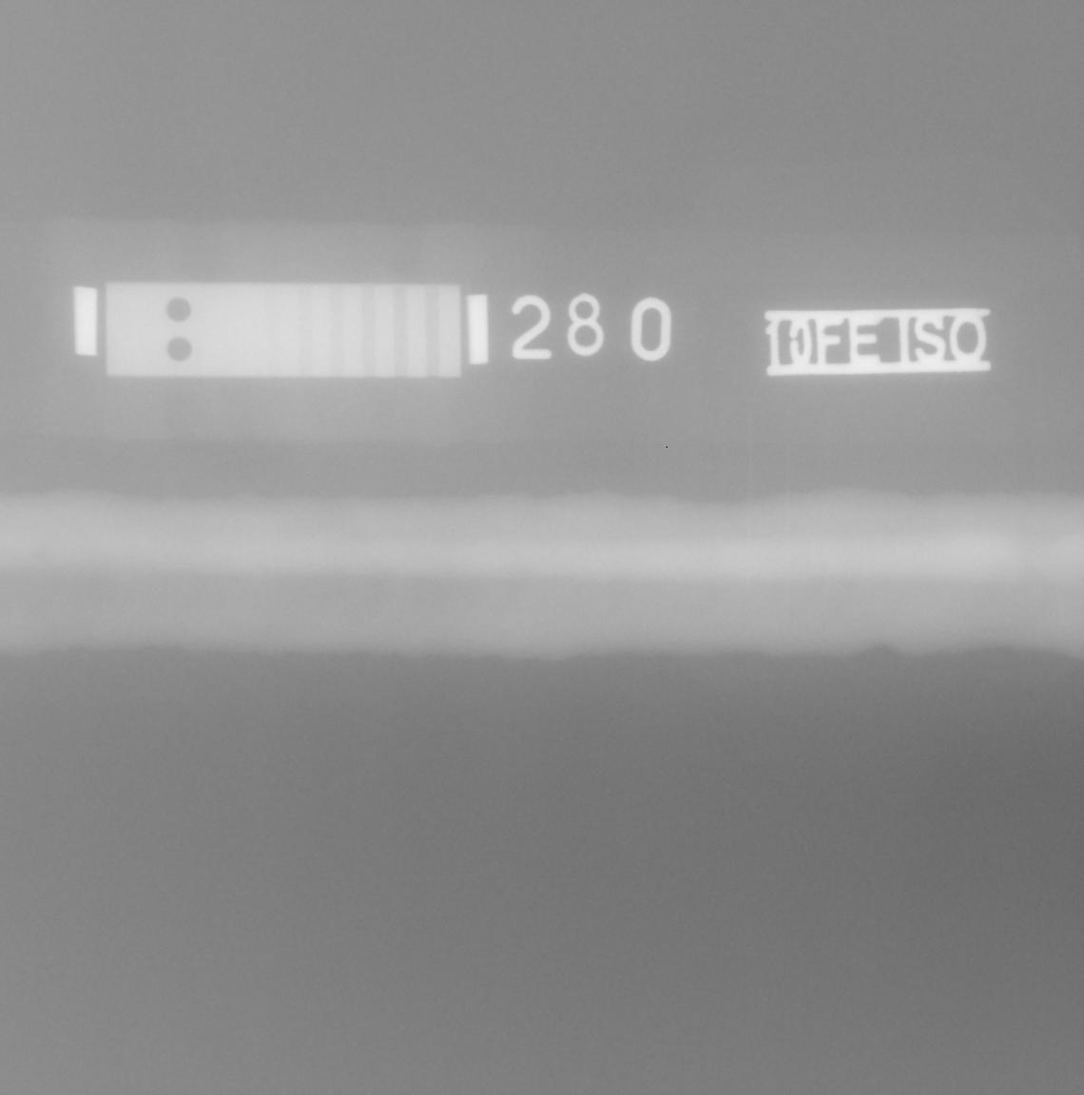Reference Standard 2: (105, 283, 460, 377)
